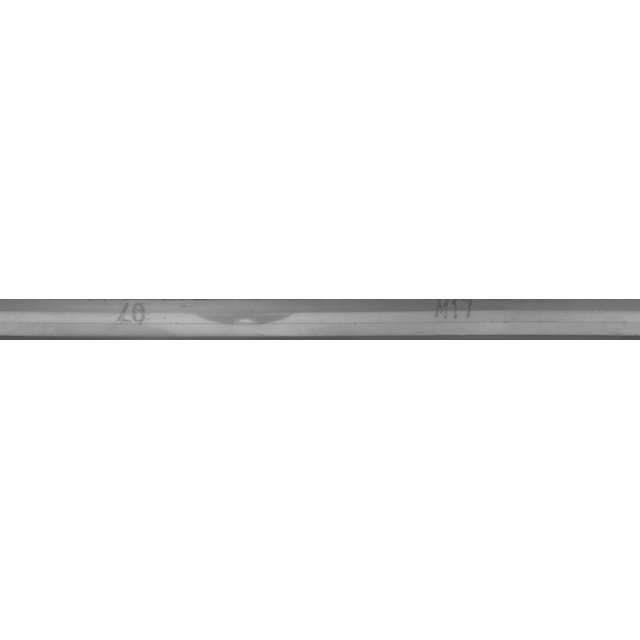mohao: (355, 270, 555, 370)
xuehao: (31, 270, 231, 370)
